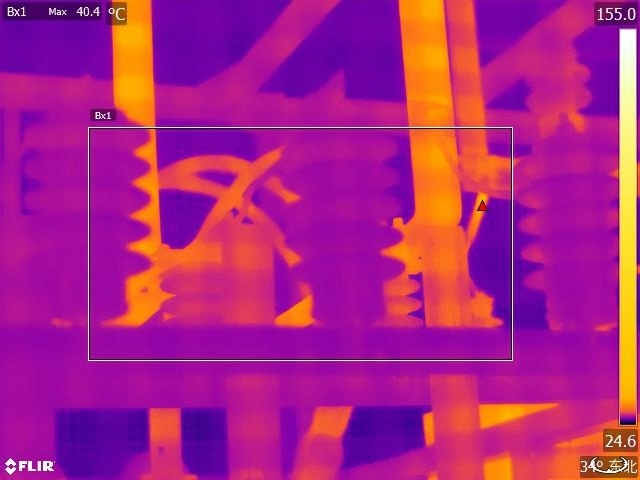post insulator: (19, 114, 165, 326), (271, 124, 409, 316), (513, 139, 622, 328)
